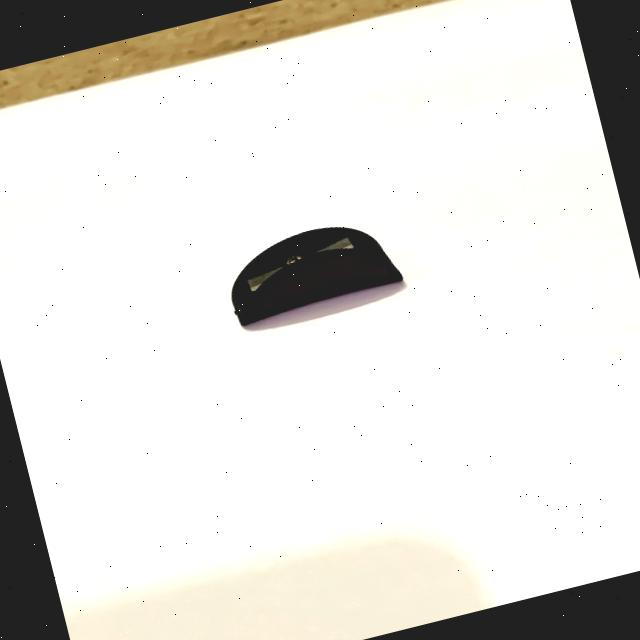Sharpner: (192, 184, 430, 350)
